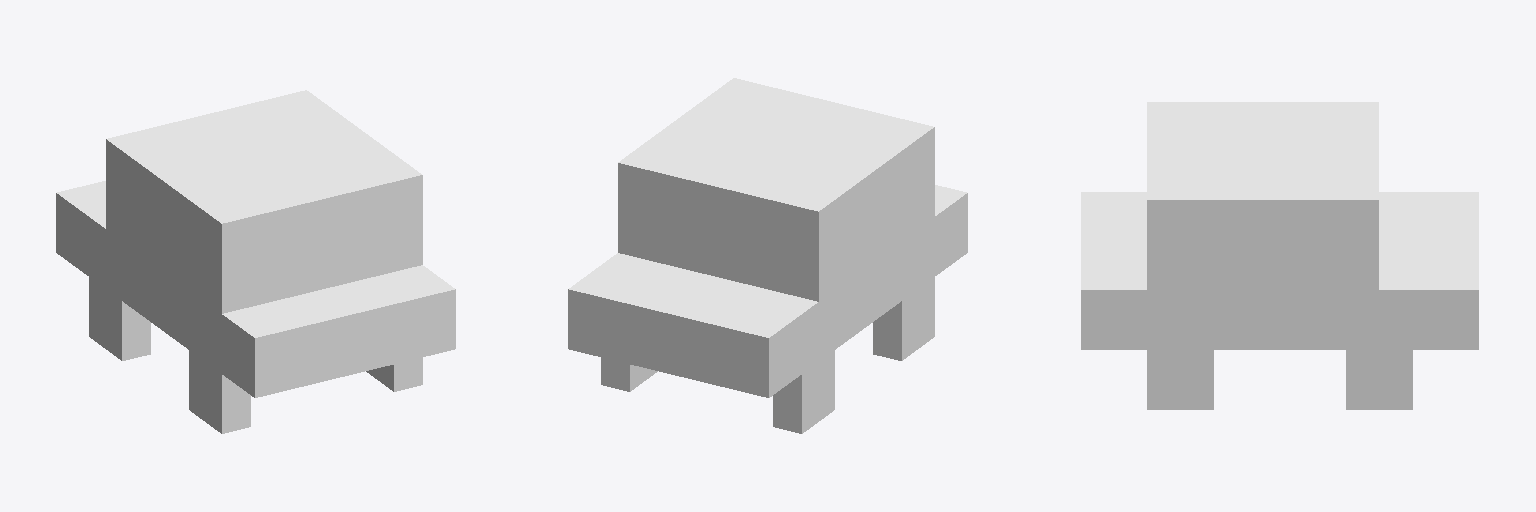
The model's file is RedCar.obj.
3 renders of one model, left to right at view 1: azimuth 30°, elevation 25°; view 2: azimuth 150°, elevation 25°; view 3: azimuth 270°, elevation 25°, orthographic.
Bounding box in the file's own units: 7 × 7 × 12.